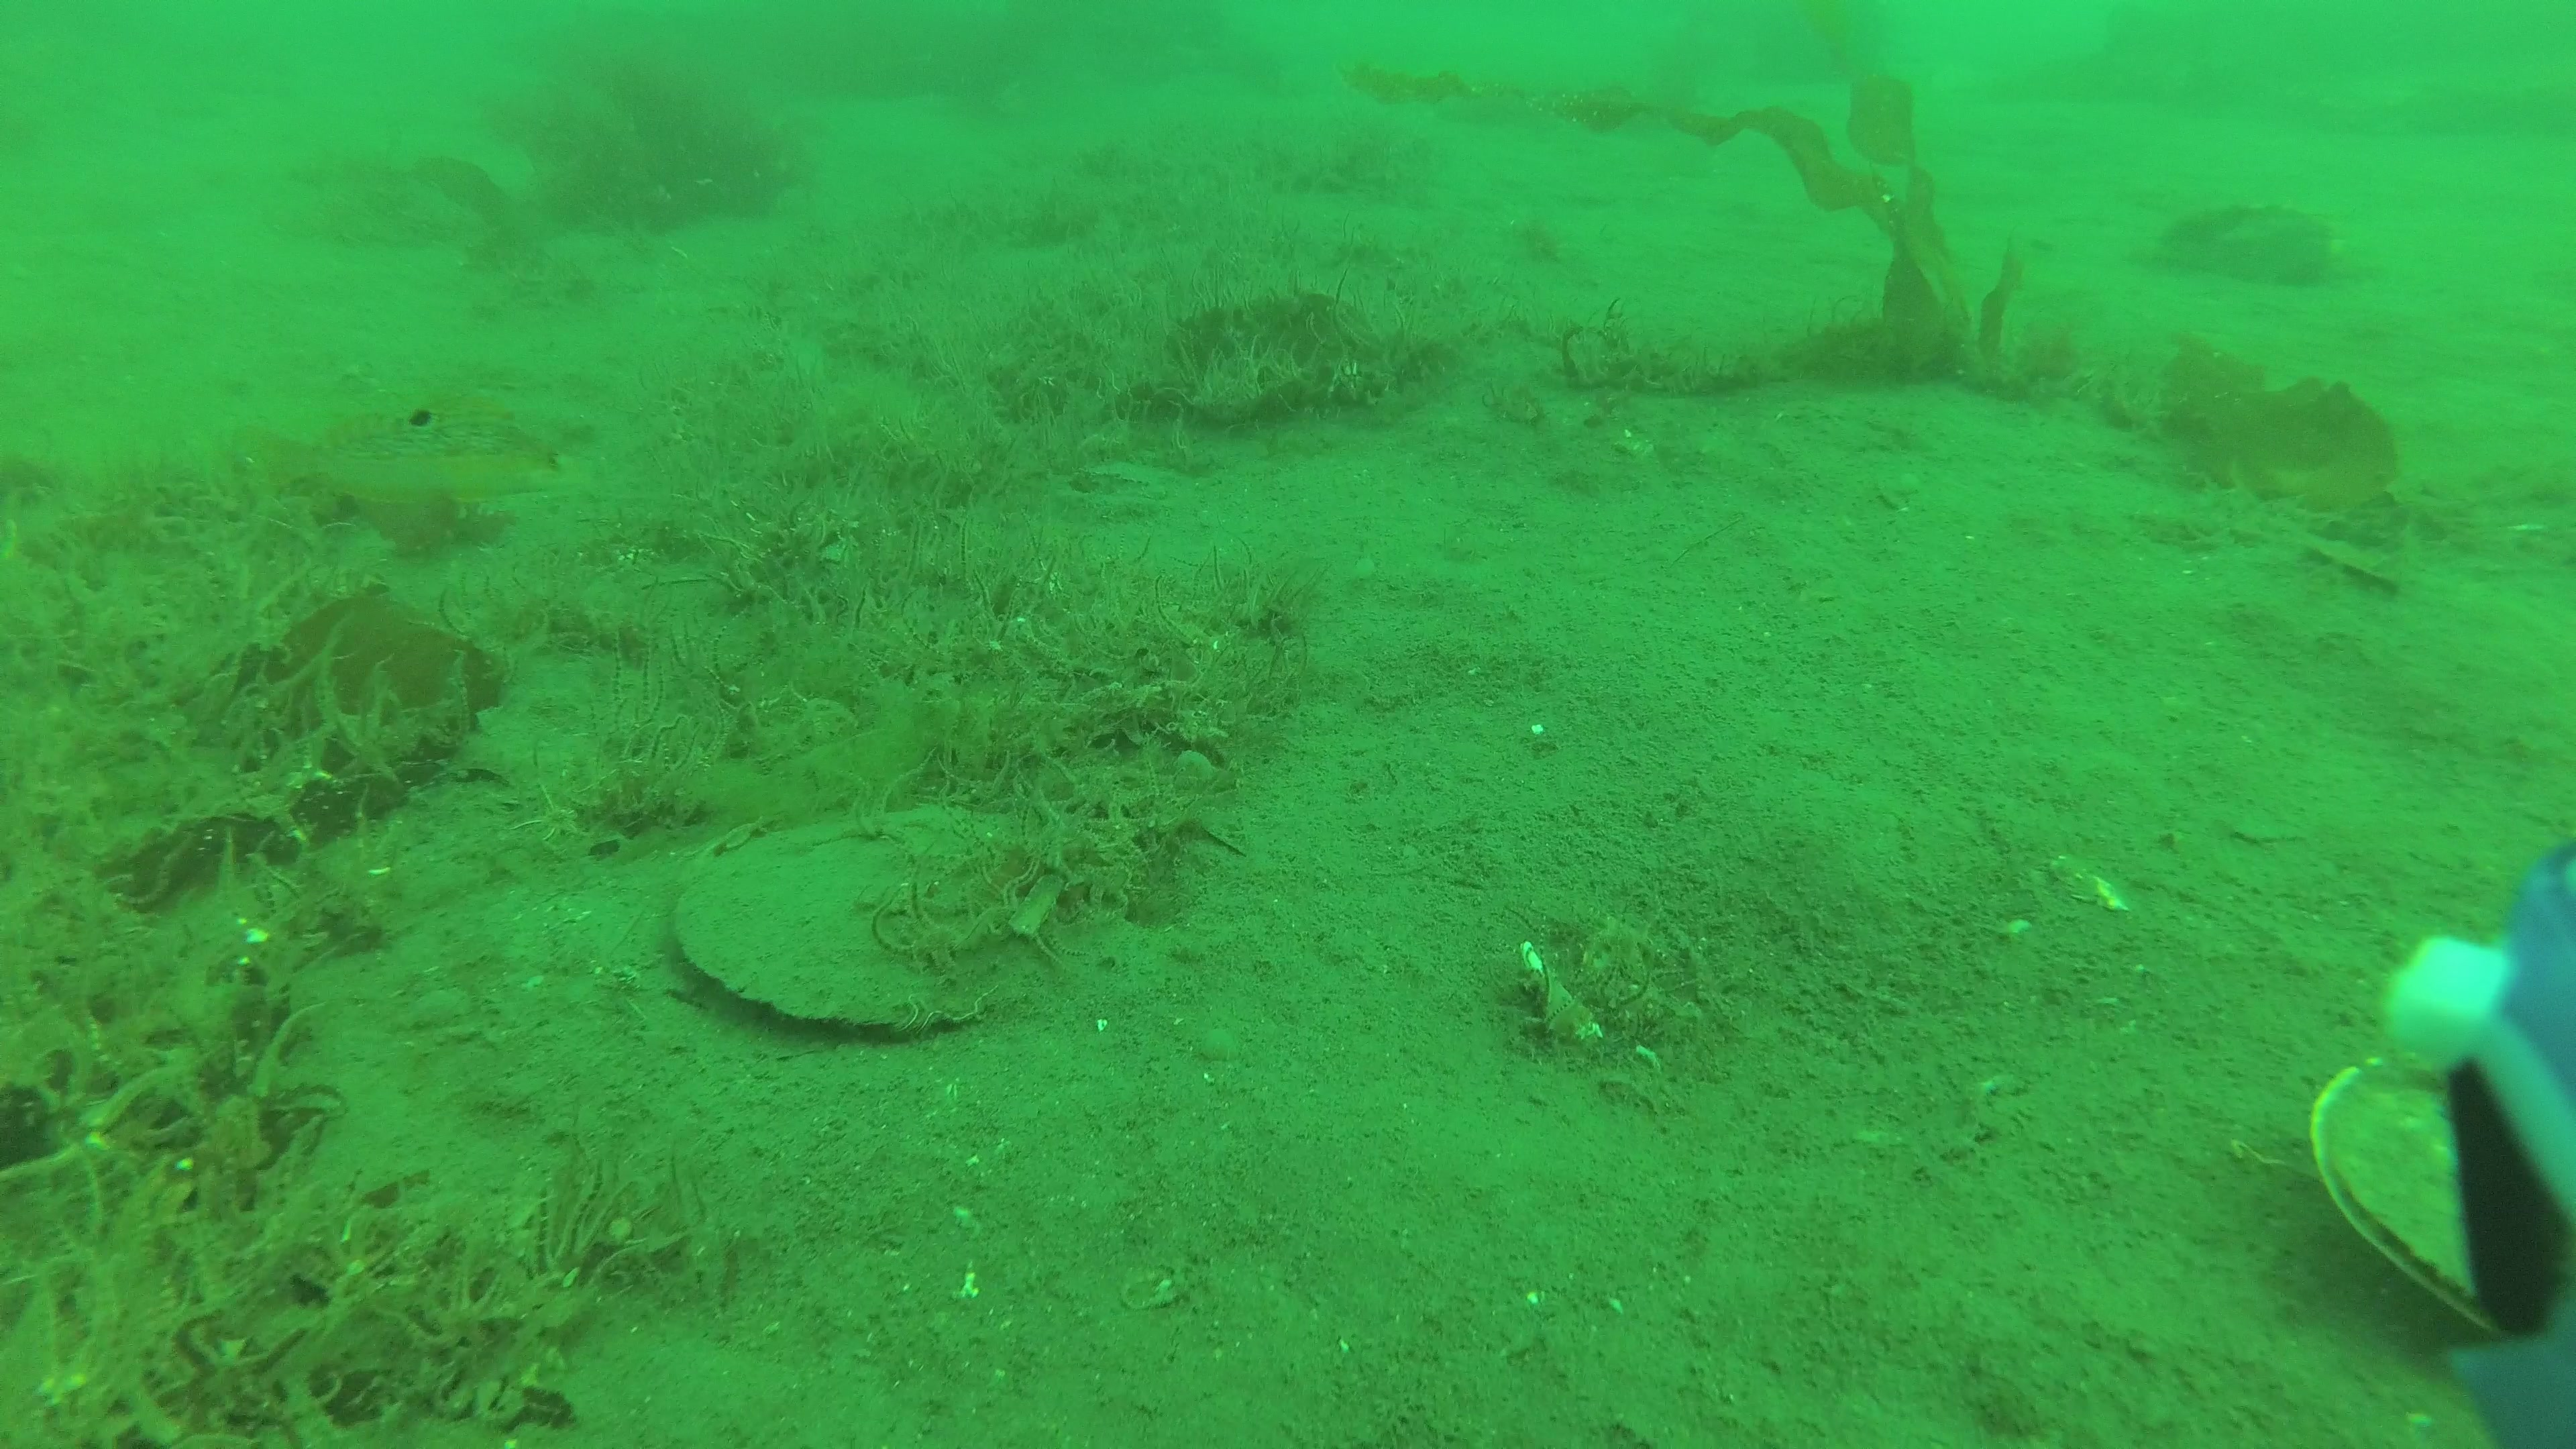scallop: (671, 814, 1040, 1033), (2309, 1058, 2507, 1345)
